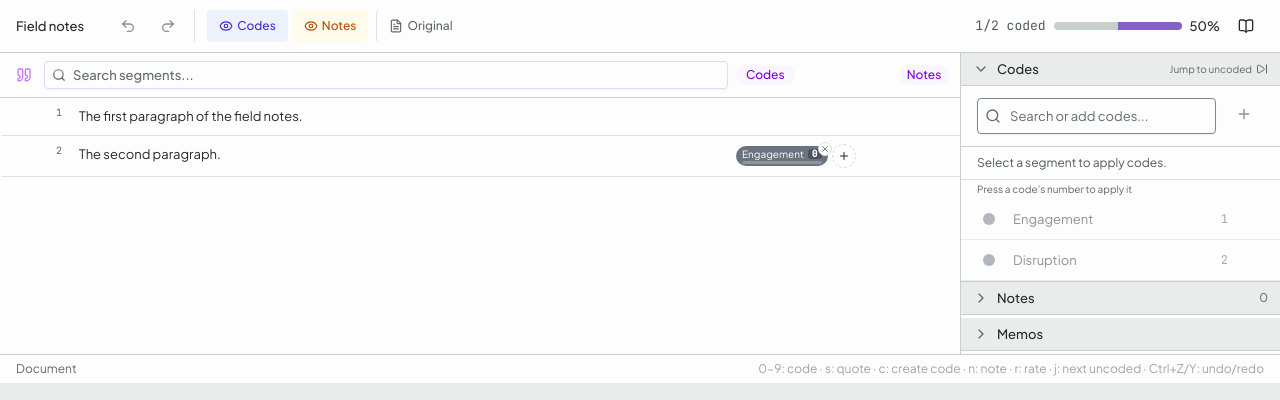
Test: the rating strip on the document workbench (#868 b) › applying a scaled code by digit opens the strip below the list, and a digit in it rates without coding
This screenshot has width=1280, height=400.
Press the mouse on the option "1 The first paragraph of the field notes.": coordinates (191, 116) left=0, top=98, right=960, bottom=136
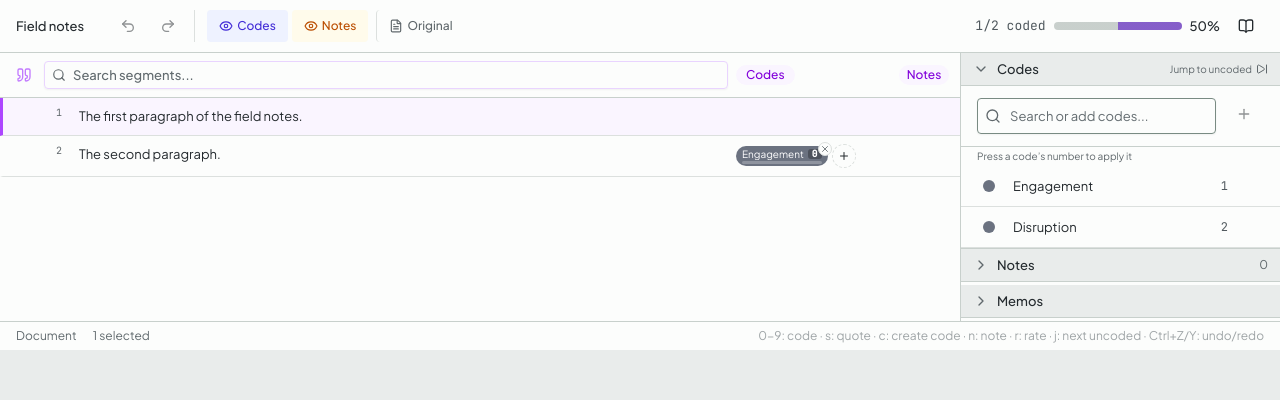
Press 1
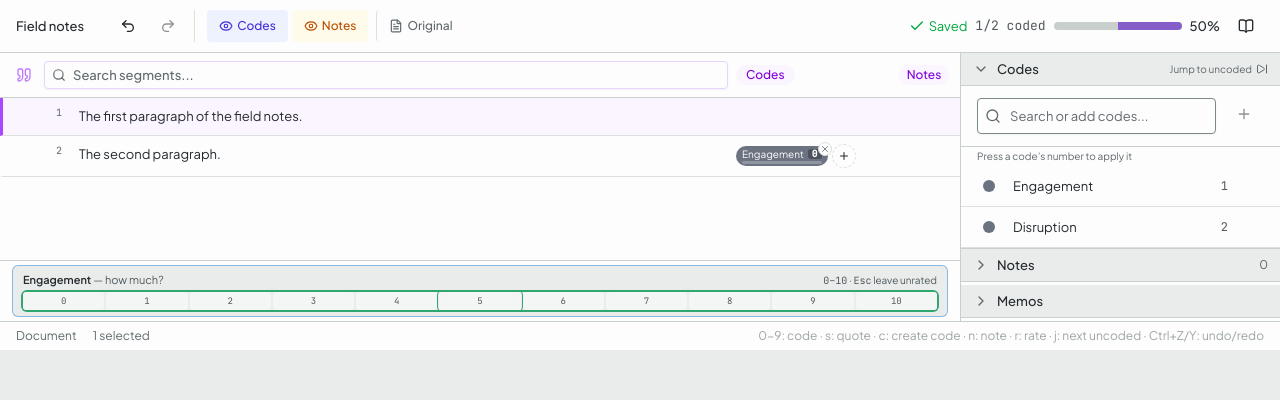
Press 7 in the element showing "0 1 2 3 4 5 6 7 8 9 10", box left=23, top=292, right=937, bottom=310
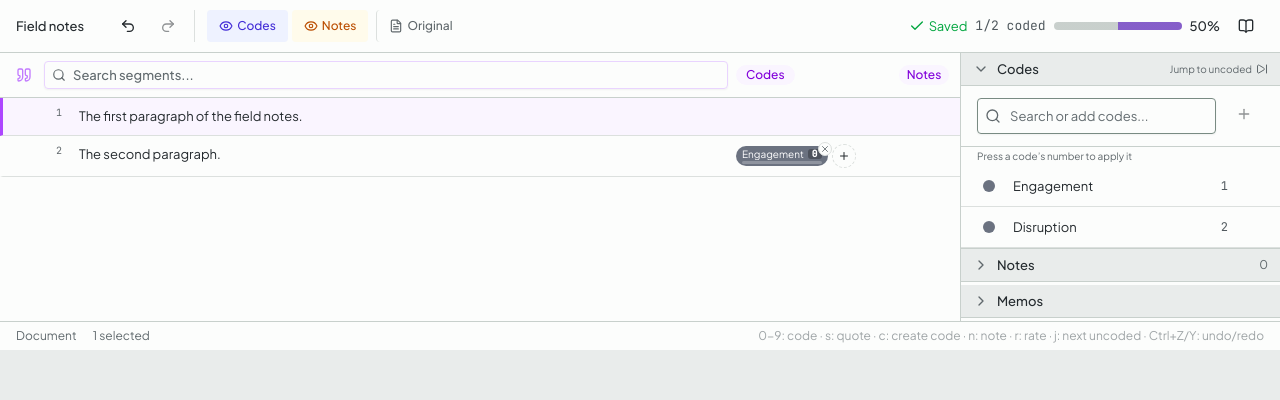
expect the element with test id "magnitude-strip" is gone: met
